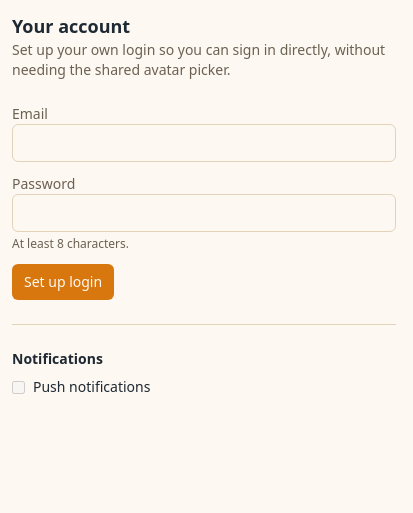
Scenario: AccountPage › submits credentials and shows a success notice
Check: the heading "Your account" is shown, box [12,14,130,38]
Type "j@example.com" into the field labelled "Email".
click(204, 143); type("j@example.com")  # box [12,124,396,162]
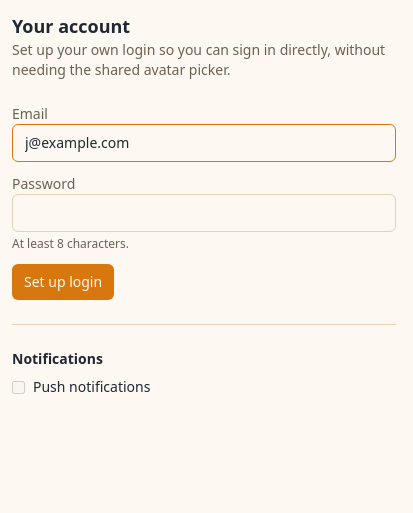
Type "hunter22" into the password field labelled "Password".
click(204, 213); type("hunter22")  # box [12,194,396,232]
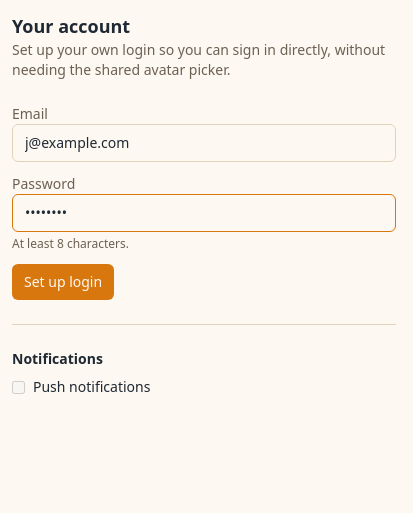
Click the button "Set up login".
click(63, 282)  # box [12,264,114,300]
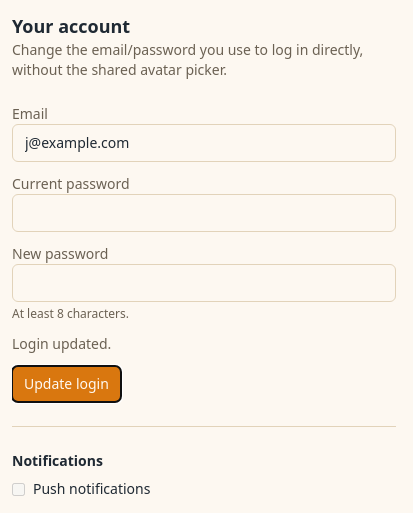
Check: the text "Login updated." is shown, box [12,334,111,353]
